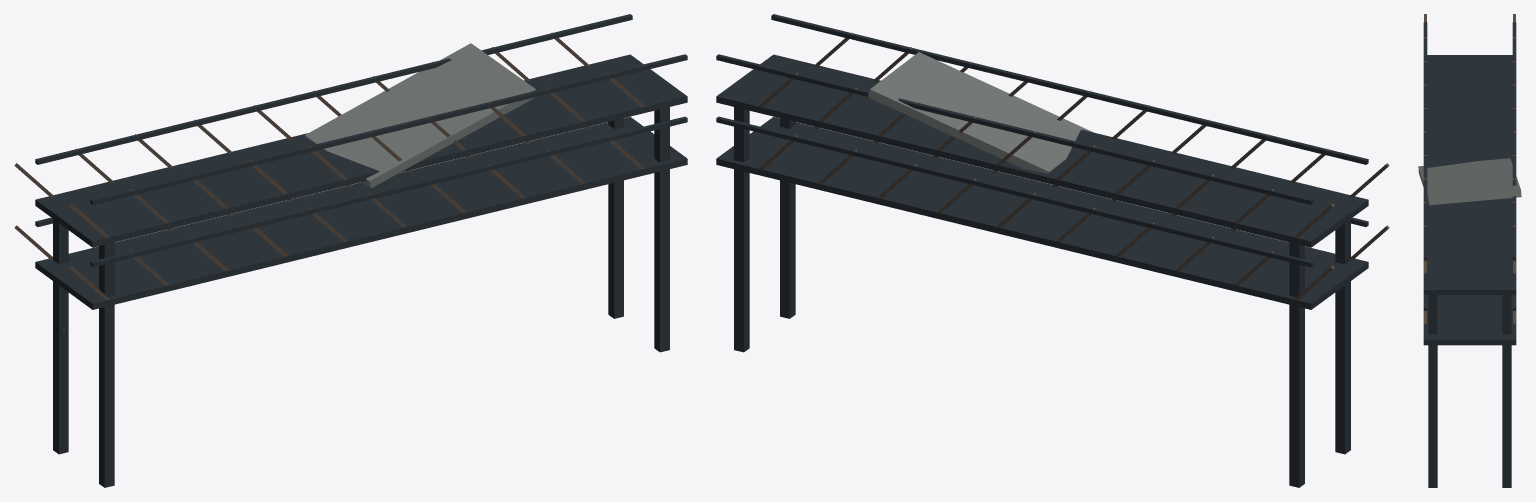
Rendered from collapsed-overpass-3.glb.
3 renders of one model, left to right at view 1: azimuth 30°, elevation 25°; view 2: azimuth 150°, elevation 25°; view 3: azimuth 270°, elevation 25°, orthographic. The views are drawn at different scales.
Parts seen in each view (by area): view 1: collapsed-overpass/2/KR-230-3; view 2: collapsed-overpass/2/KR-230-3; view 3: collapsed-overpass/2/KR-230-3.
Boxes of the visible parts, bbox=[...] form: collapsed-overpass/2/KR-230-3: bbox=[14, 14, 687, 487]; collapsed-overpass/2/KR-230-3: bbox=[716, 14, 1389, 487]; collapsed-overpass/2/KR-230-3: bbox=[1418, 14, 1521, 487].
Size of the model in its own units: 31.08 by 14.43 by 5.58.
